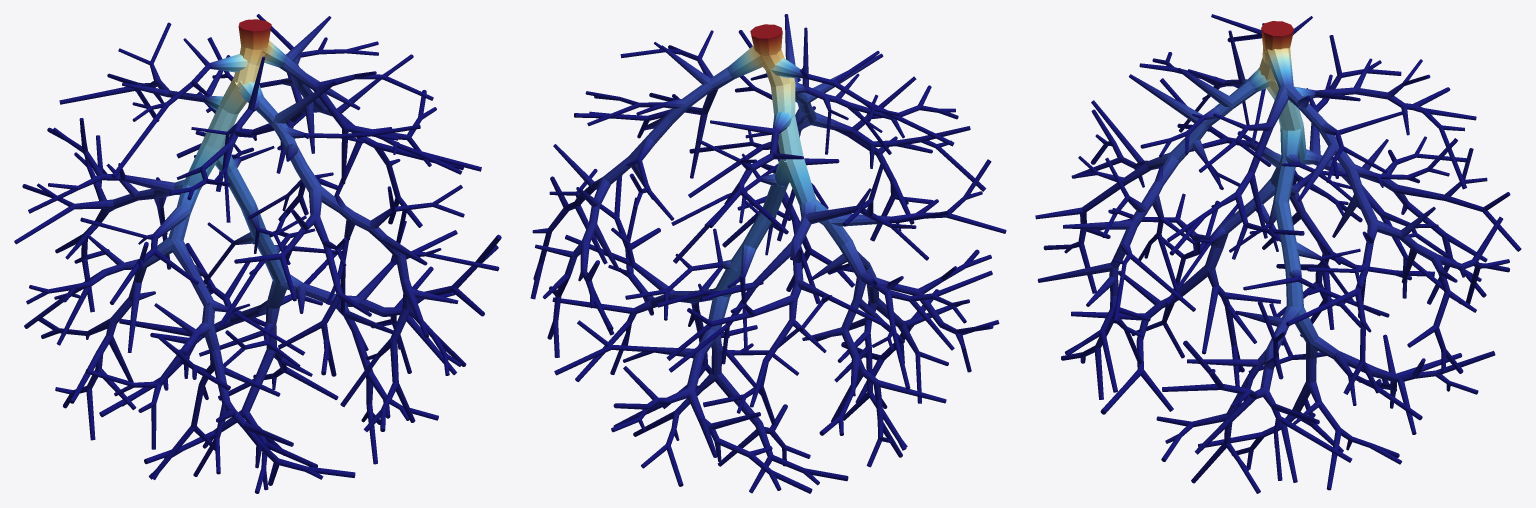
Rendered from 43_flow.gltf.
The picture shows the model from 3 angles, left to right: view 1: azimuth 30°, elevation 25°; view 2: azimuth 150°, elevation 25°; view 3: azimuth 270°, elevation 25°; orthographic projection. The views are drawn at different scales.
Visible parts, largest first — view 1: Renderer Node; view 2: Renderer Node; view 3: Renderer Node.
Part boxes in pixels (x1,y1,x2,y2): Renderer Node: [14, 14, 501, 493]; Renderer Node: [530, 14, 1006, 493]; Renderer Node: [1035, 14, 1521, 493].
Size of the model in its own units: 33.36 by 33.52 by 33.29.
Materials: 1 (1 with a texture image).
